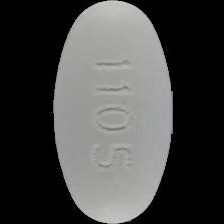13668-105: (0, 0, 224, 224)
